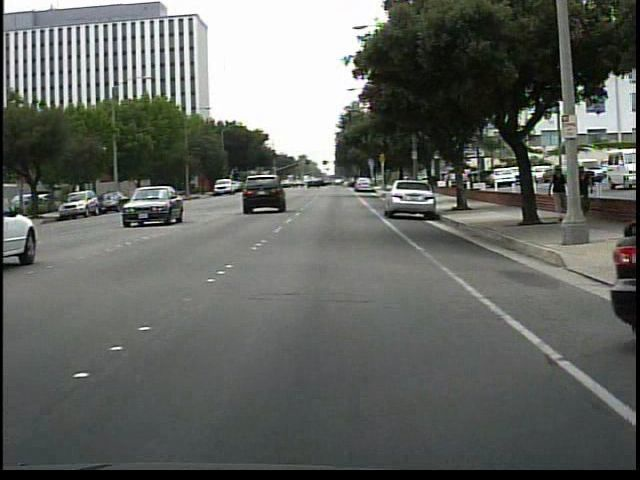person: (545, 158, 567, 225), (574, 159, 595, 222)
